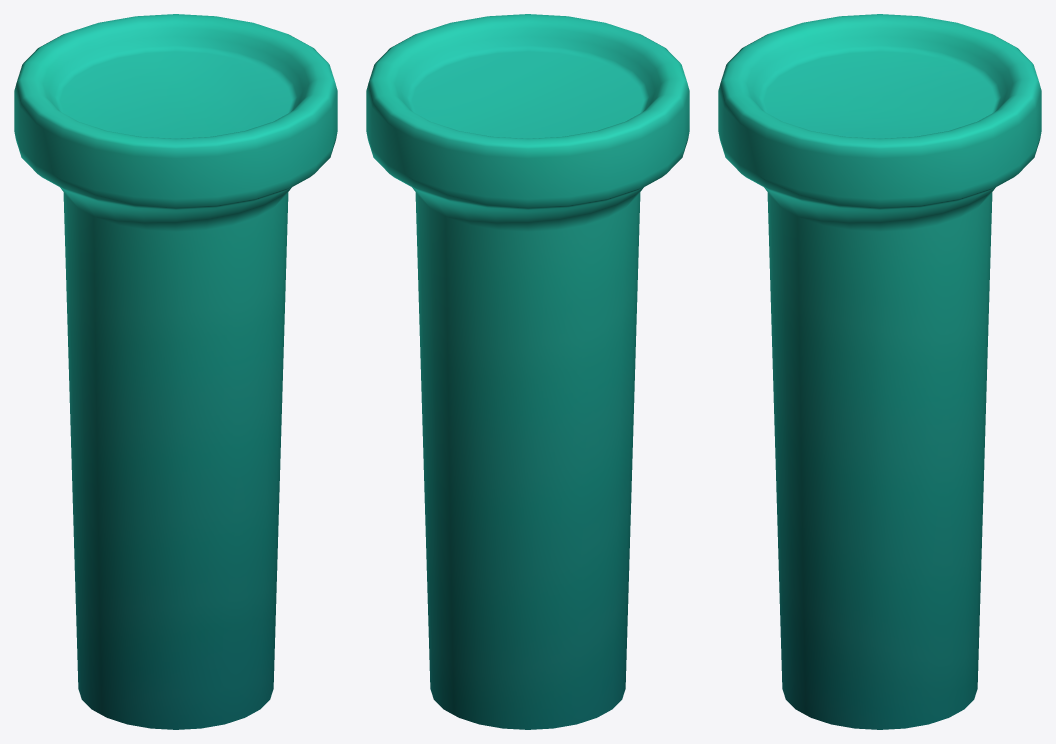
The model's file is Platform007.fbx.
3 renders of one model, left to right at view 1: azimuth 30°, elevation 25°; view 2: azimuth 150°, elevation 25°; view 3: azimuth 270°, elevation 25°, orthographic.
Visible parts, largest first — view 1: Platform6; view 2: Platform6; view 3: Platform6.
Part boxes in pixels (x1,y1,x2,y2): Platform6: (14, 14, 337, 729); Platform6: (366, 14, 689, 729); Platform6: (718, 14, 1041, 729).
Bounding box in the file's own units: 154 × 321 × 154.
